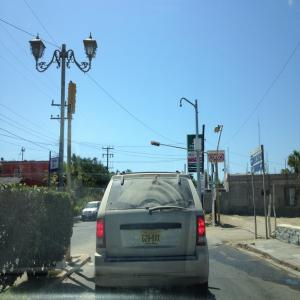Vehicle-registration-plate: (139, 230, 163, 246)
